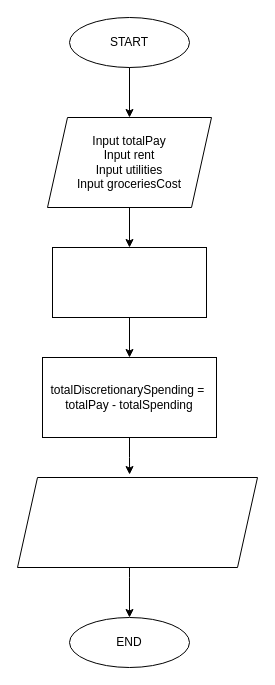
This 275x685 diagram has some shape labels left out. The centre of each missing label's shape, as x and y in pixels:
"Output totalPay Output totalSpending Output totalDiscritonarySpending" belongs at [137,522].
"totalSpending = rent + utilities + groceriesCost" belongs at [129,282].
